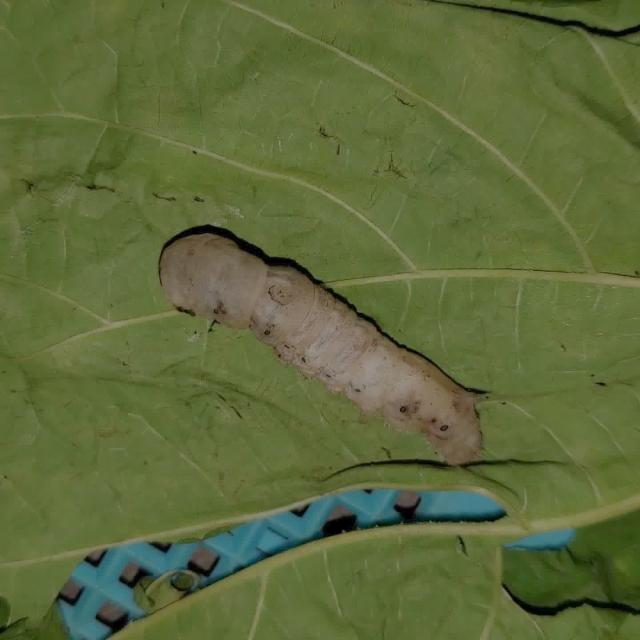Grasserie: (151, 218, 487, 483)
